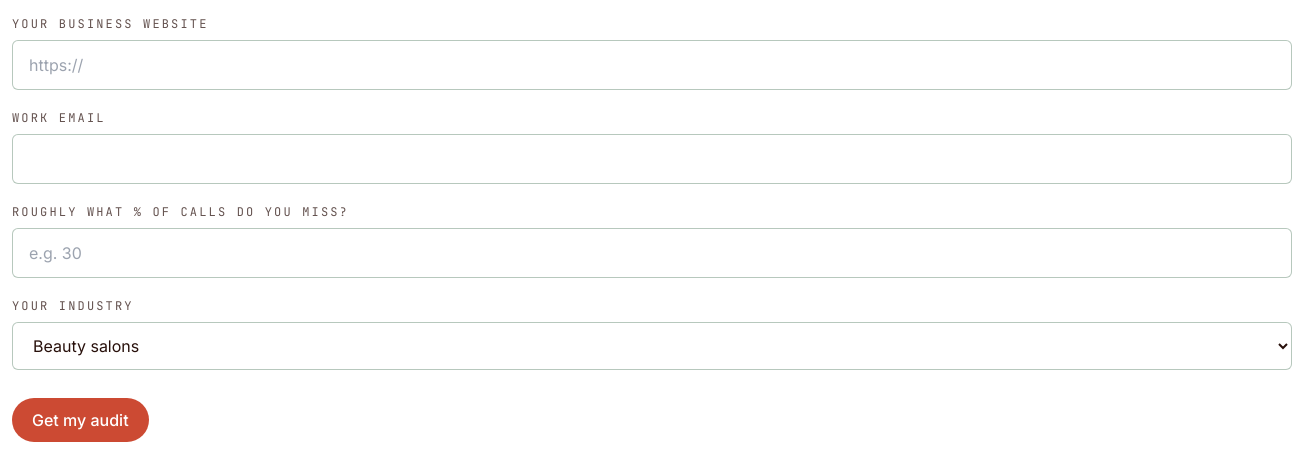
Test: AuditForm › swaps to confirmation message on submit
Type "https://example.com" into the field labelled "Your business website". click: [652, 65]
box: [12,40,1292,90]
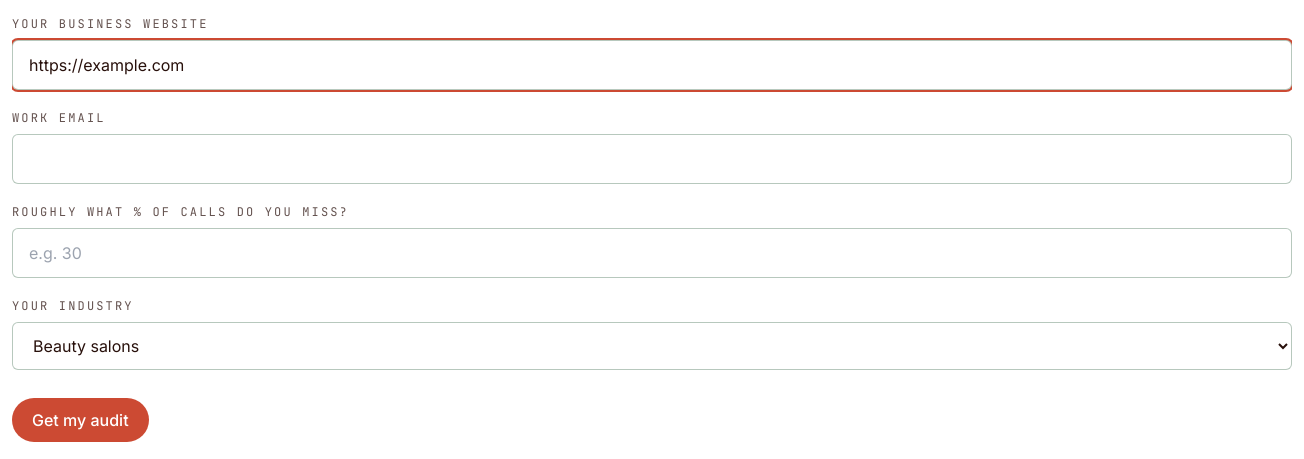
Type "test@example.com" into the field labelled "Work email". click: [652, 159]
box: [12,134,1292,184]
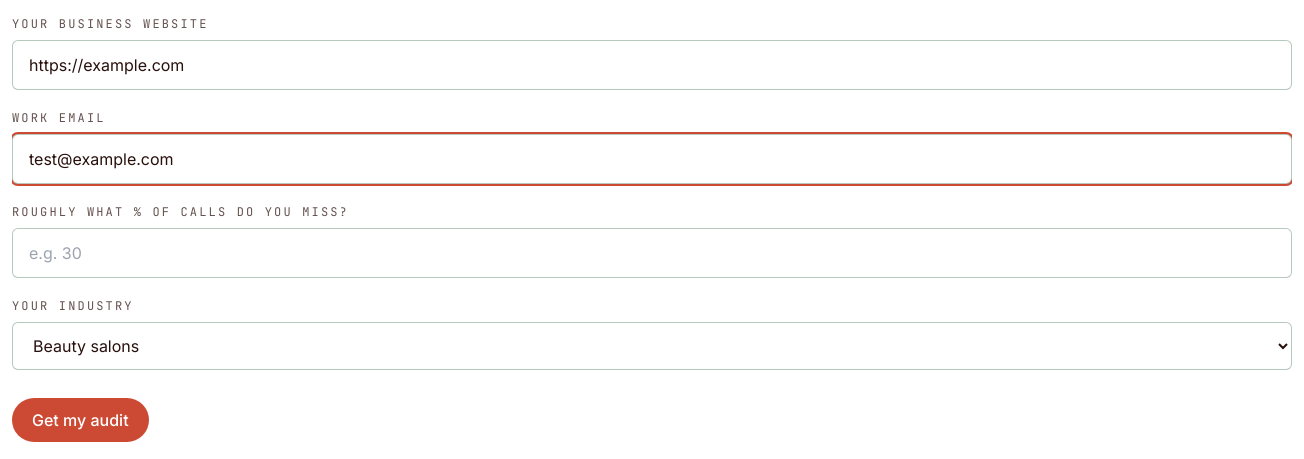
Type "30" into the number field labelled "Roughly what % of calls do you miss?". click: [652, 253]
box: [12,228,1292,278]
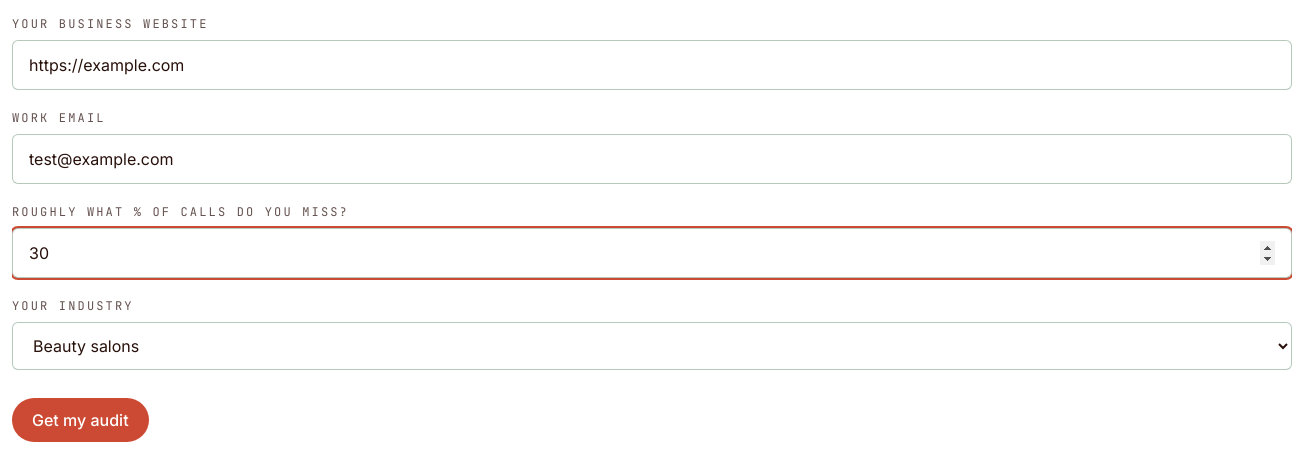
Click the button "Get my audit". click: [80, 420]
box: [12,398,149,442]
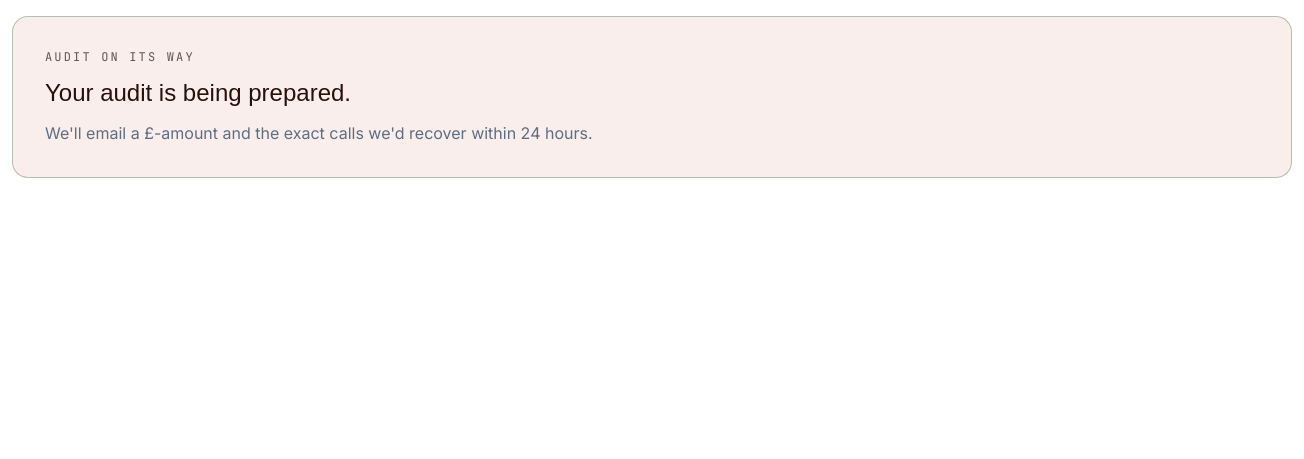
Expected: the text "Your audit is being prepared." is shown, [45,79,351,106]
